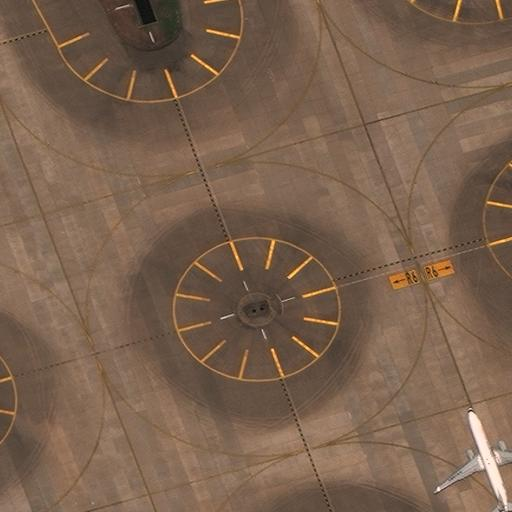Medium Civil Transport: (434, 406, 512, 511)
